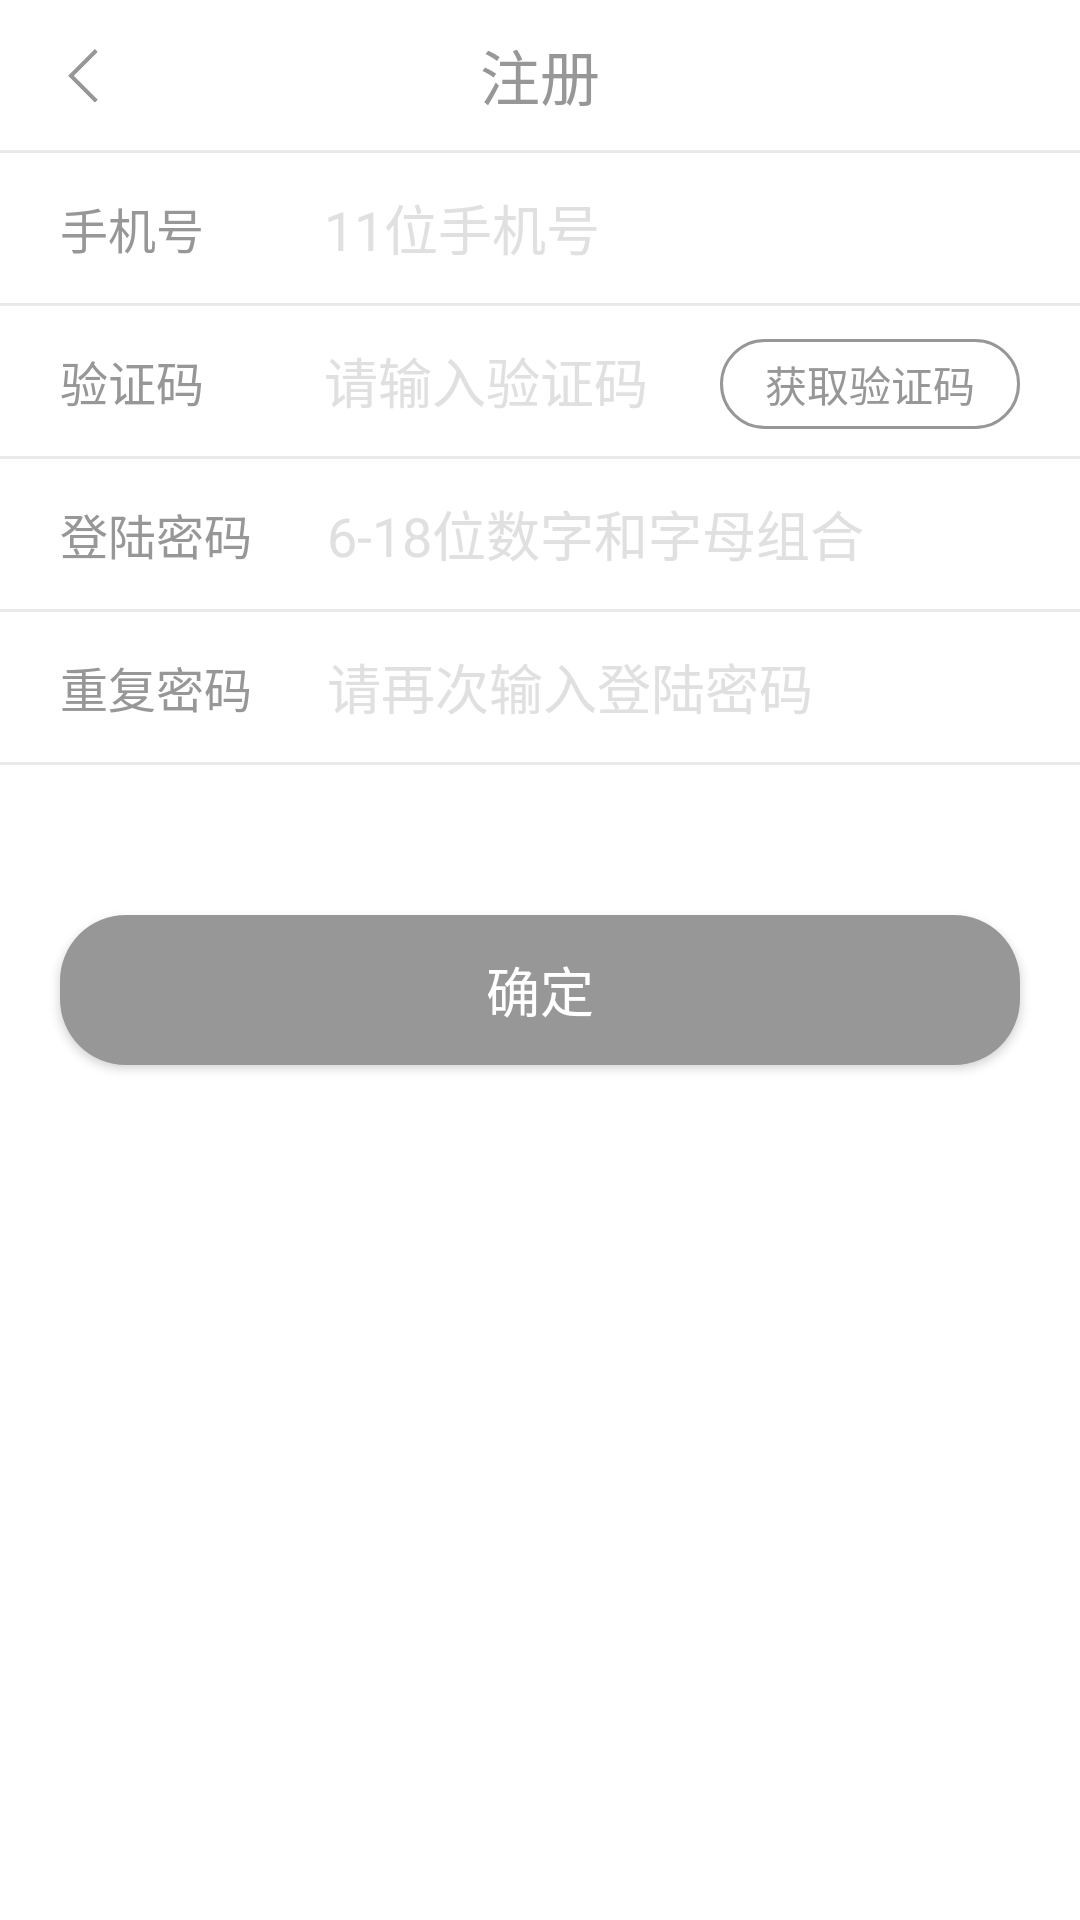

Icons on this 1080×1920 Android screen, each with the point to tap as (x=x, y=y):
back: (x=83, y=75)
